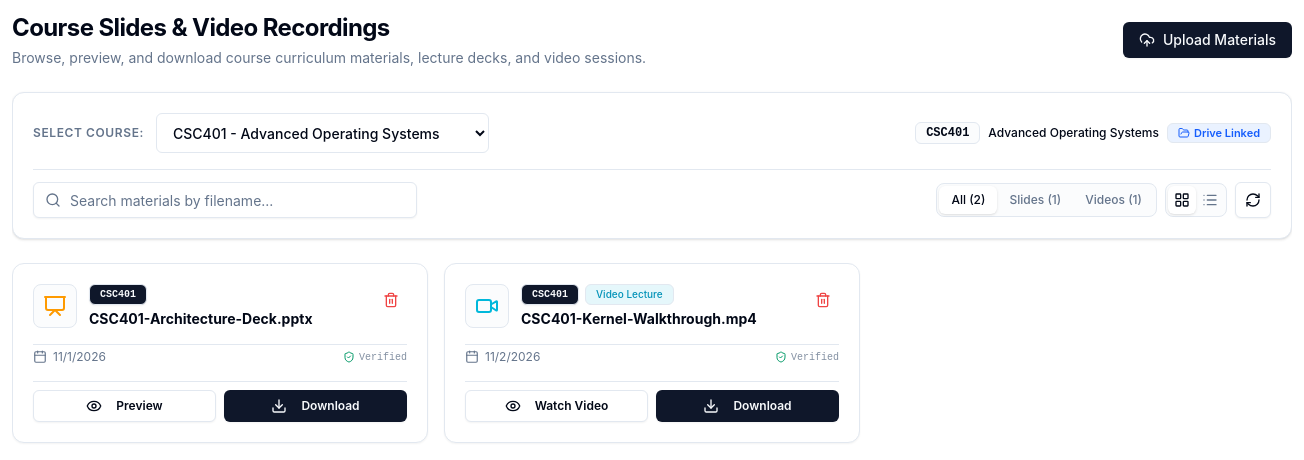
Test case: CourseSlidesPage › filters by Videos and Slides when filter pills are clicked
Check: the heading "CSC401-Architecture-Deck.pptx" is shown, box 89,305 -> 312,328
Check: the heading "CSC401-Kernel-Walkthrough.mp4" is shown, box 521,305 -> 757,328
Note: Click "Videos (1)"
Click the button "Videos (1)".
click(1114, 200)  # box 1073,186 -> 1154,214
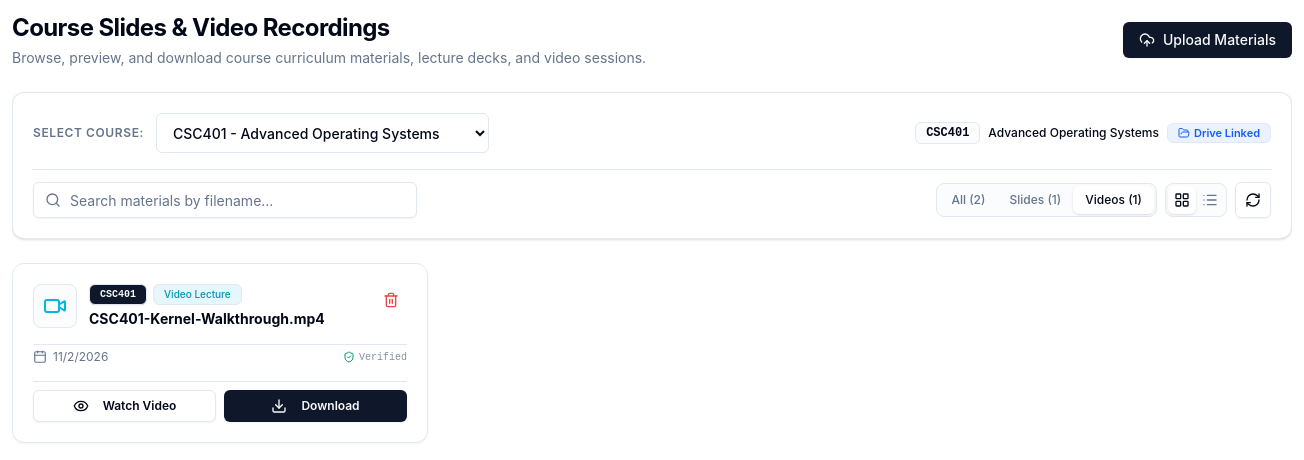
Check: the heading "CSC401-Kernel-Walkthrough.mp4" is shown, box 89,305 -> 325,328
Check: the heading "CSC401-Architecture-Deck.pptx" is gone
Note: Click "Slides (1)"
Click the button "Slides (1)".
click(1035, 200)  # box 998,186 -> 1073,214
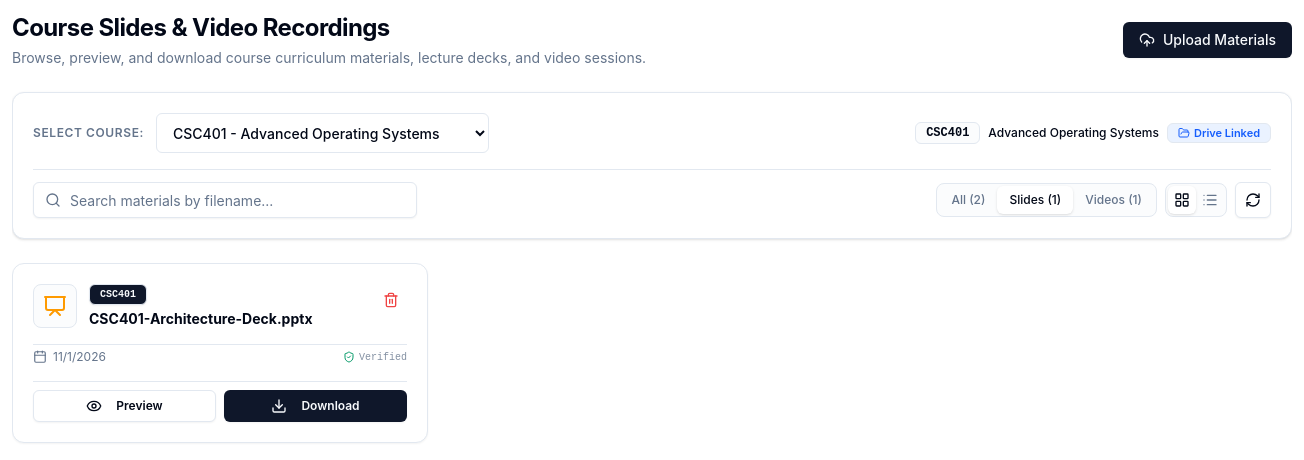
Check: the heading "CSC401-Architecture-Deck.pptx" is shown, box 89,305 -> 312,328
Check: the heading "CSC401-Kernel-Walkthrough.mp4" is gone
